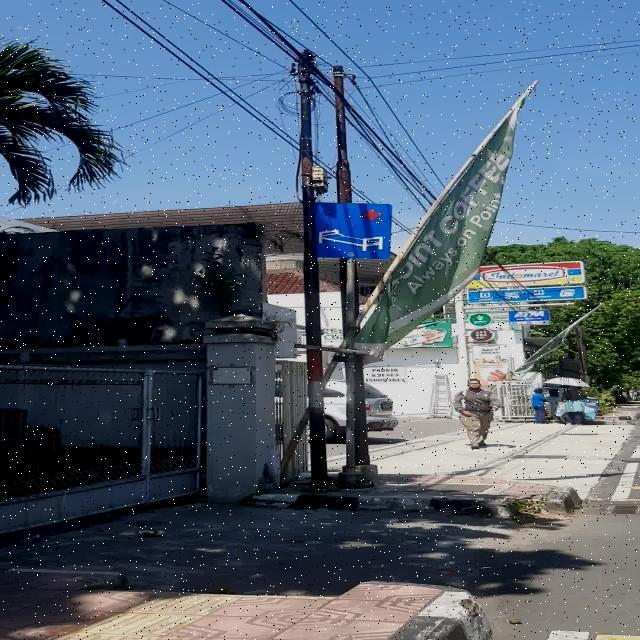Rumah Sakit: (316, 203, 390, 259)
